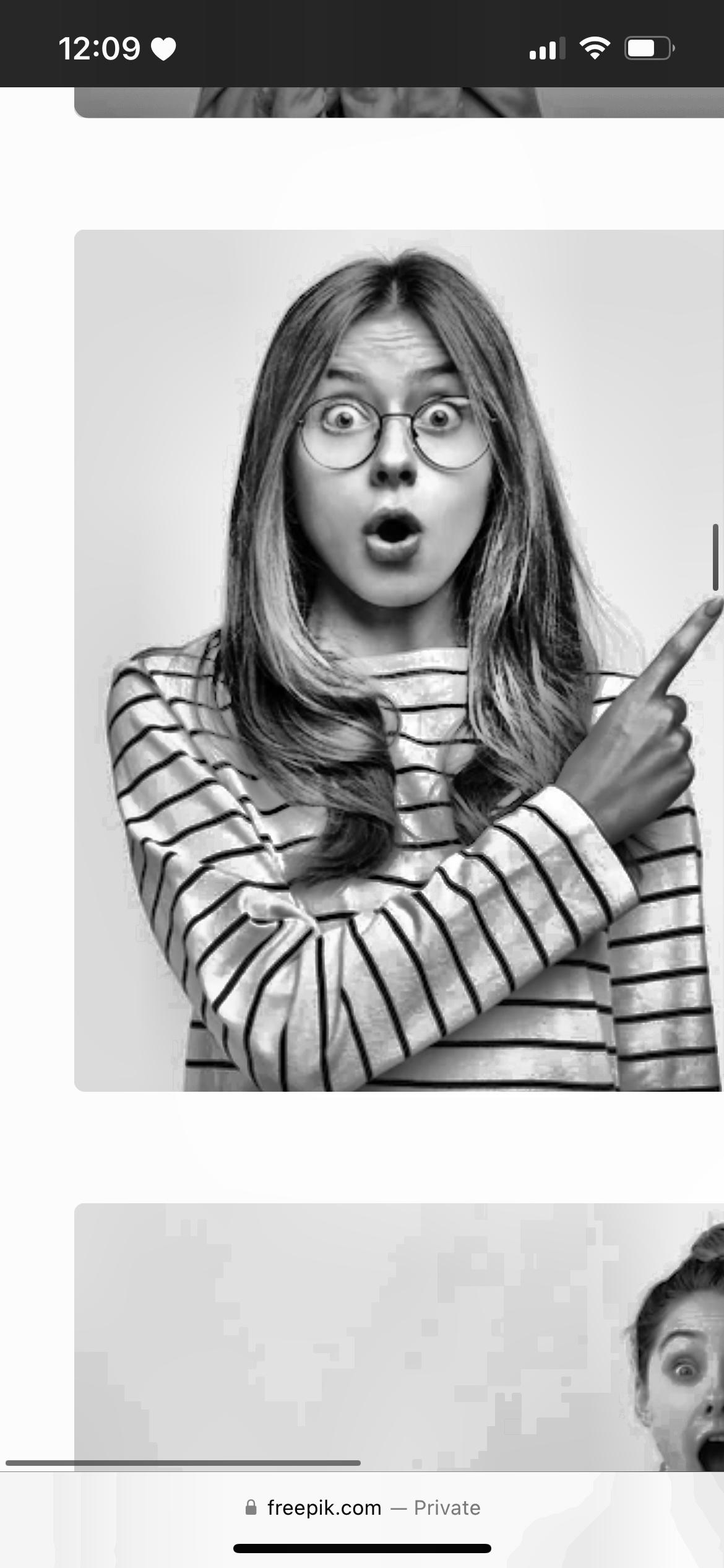surprised: (233, 292, 577, 764)
